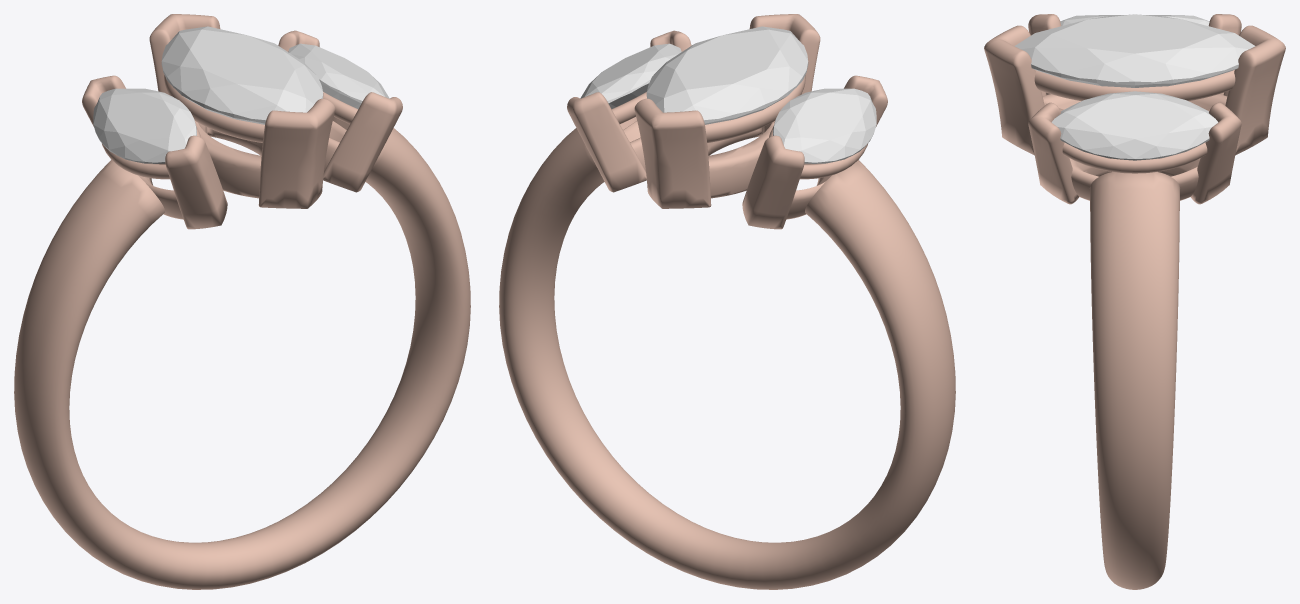
The model's file is diamond-marquise-rosegold-protectededges2prong-taperedband-3stone.glb.
3 views of the same model, side by side, from view 1: azimuth 30°, elevation 25°; view 2: azimuth 150°, elevation 25°; view 3: azimuth 270°, elevation 25° (orthographic).
Parts seen in each view (by area): view 1: metal, stone, side.001, side; view 2: metal, stone, side.001, side; view 3: metal, stone, side, side.001.
Boxes of the visible parts, x1,y1,x2,y2 form: metal: (14, 14, 470, 589); stone: (161, 26, 323, 124); side.001: (93, 88, 196, 163); side: (288, 43, 389, 109); metal: (499, 14, 955, 589); stone: (646, 26, 808, 124); side.001: (773, 88, 876, 163); side: (580, 43, 681, 109); metal: (984, 14, 1285, 589); stone: (1014, 14, 1255, 87); side: (1051, 91, 1218, 160); side.001: (1060, 15, 1209, 26).
Size of the model in its own units: 20.1 by 22.73 by 11.69.
